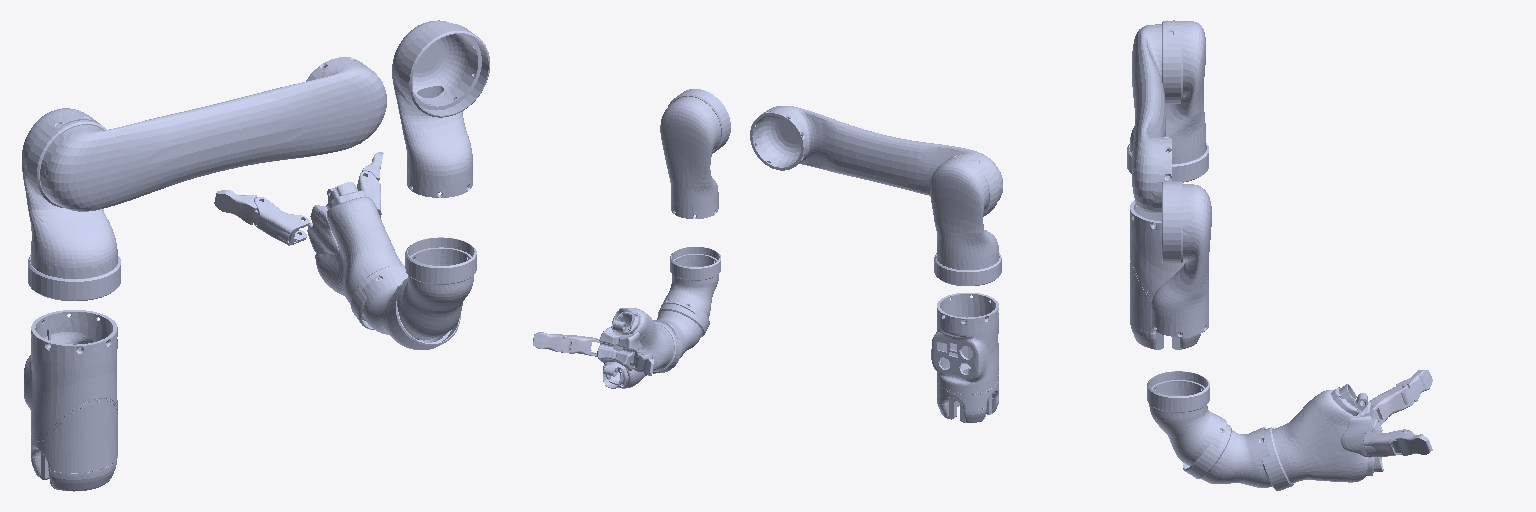
URDF robot description (mico):
<?xml version="1.0" ?>
<!-- =================================================================================== -->
<!-- |    This document was autogenerated by xacro from standalone_mico_arm.xacro      | -->
<!-- |    EDITING THIS FILE BY HAND IS NOT RECOMMENDED                                 | -->
<!-- =================================================================================== -->
<robot name="mico" xmlns:body="http://playerstage.sourceforge.net/gazebo/xmlschema/#body" xmlns:controller="http://playerstage.sourceforge.net/gazebo/xmlschema/#controller" xmlns:gazebo="http://playerstage.sourceforge.net/gazebo/xmlschema/#gz" xmlns:geom="http://playerstage.sourceforge.net/gazebo/xmlschema/#geom" xmlns:interface="http://playerstage.sourceforge.net/gazebo/xmlschema/#interface" xmlns:joint="http://playerstage.sourceforge.net/gazebo/xmlschema/#joint" xmlns:model="http://playerstage.sourceforge.net/gazebo/xmlschema/#model" xmlns:physics="http://playerstage.sourceforge.net/gazebo/xmlschema/#physics" xmlns:renderable="http://playerstage.sourceforge.net/gazebo/xmlschema/#renderable" xmlns:rendering="http://playerstage.sourceforge.net/gazebo/xmlschema/#rendering" xmlns:sensor="http://playerstage.sourceforge.net/gazebo/xmlschema/#sensor" xmlns:xacro="http://ros.org/wiki/xacro" xmlns:xi="http://www.w3.org/2001/XInclude">
  <link name="root">
    <visual>
      <origin rpy="0 0 0" xyz="0 0 0"/>
      <geometry>
        <box size="0 0 0"/>
        <!--making it slightly bigger in x and z direction-->
      </geometry>
      <!--<material name="Black" /> -->
    </visual>
    <collision>
      <origin rpy="0 0 0" xyz="0 0 0"/>
      <geometry>
        <box size="0 0 0"/>
        <!--making it slightly bigger in x and z direction-->
      </geometry>
    </collision>
  </link>
  <link name="mico_link_base">
    <visual>
      <geometry>
        <mesh filename="package://jaco_model/meshes/mico_link_base.dae"/>
      </geometry>
      <material name="carbon_fiber">
        <color rgba="0.792156862745098 0.819607843137255 0.933333333333333 1"/>
      </material>
    </visual>
    <collision>
      <geometry>
        <mesh filename="package://jaco_model/meshes/mico_link_base.dae"/>
      </geometry>
    </collision>
  </link>
  <joint name="mico_joint_base" type="fixed">
    <parent link="root"/>
    <child link="mico_link_base"/>
    <axis xyz="0 0 0"/>
    <origin rpy="0 0 0" xyz="0 0 0"/>
  </joint>
  <link name="mico_link_1">
    <visual>
      <geometry>
        <mesh filename="package://jaco_model/meshes/mico_link_1.dae"/>
      </geometry>
      <material name="carbon_fiber">
        <color rgba="0.792156862745098 0.819607843137255 0.933333333333333 1"/>
      </material>
    </visual>
    <collision>
      <geometry>
        <mesh filename="package://jaco_model/meshes/mico_link_1.dae"/>
      </geometry>
    </collision>
  </link>
  <joint name="mico_joint_1" type="revolute">
    <parent link="mico_link_base"/>
    <child link="mico_link_1"/>
    <axis xyz="0 0 -1"/>
    <origin rpy="3.14159265359 0 3.14159265359" xyz="0 0 0.1535"/>
    <limit effort="30" lower="-6.28318530718" upper="6.28318530718" velocity="5"/>
  </joint>
  <link name="mico_link_2">
    <visual>
      <geometry>
        <mesh filename="package://jaco_model/meshes/mico_link_2.dae"/>
      </geometry>
      <material name="carbon_fiber">
        <color rgba="0.792156862745098 0.819607843137255 0.933333333333333 1"/>
      </material>
    </visual>
    <collision>
      <geometry>
        <mesh filename="package://jaco_model/meshes/mico_link_2.dae"/>
      </geometry>
    </collision>
  </link>
  <joint name="mico_joint_2" type="revolute">
    <parent link="mico_link_1"/>
    <child link="mico_link_2"/>
    <axis xyz="0 0 1"/>
    <origin rpy="-1.57079632679 3.14159265359 0" xyz="0 0 -0.1185"/>
    <limit effort="30" lower="0" upper="6.28318530718" velocity="5"/>
  </joint>
  <link name="mico_link_3">
    <visual>
      <geometry>
        <mesh filename="package://jaco_model/meshes/mico_link_3.dae"/>
      </geometry>
      <material name="carbon_fiber">
        <color rgba="0.792156862745098 0.819607843137255 0.933333333333333 1"/>
      </material>
    </visual>
    <collision>
      <geometry>
        <mesh filename="package://jaco_model/meshes/mico_link_3.dae"/>
      </geometry>
    </collision>
  </link>
  <joint name="mico_joint_3" type="revolute">
    <parent link="mico_link_2"/>
    <child link="mico_link_3"/>
    <axis xyz="0 0 -1"/>
    <origin rpy="3.14159265359 0 1.57079632679" xyz="0.41 0 0"/>
    <limit effort="30" lower="0" upper="6.28318530718" velocity="5"/>
  </joint>
  <link name="mico_link_4">
    <visual>
      <geometry>
        <mesh filename="package://jaco_model/meshes/mico_link_4.dae"/>
      </geometry>
      <material name="carbon_fiber">
        <color rgba="0.792156862745098 0.819607843137255 0.933333333333333 1"/>
      </material>
    </visual>
    <collision>
      <geometry>
        <mesh filename="package://jaco_model/meshes/mico_link_4.dae"/>
      </geometry>
    </collision>
  </link>
  <joint name="mico_joint_4" type="revolute">
    <parent link="mico_link_3"/>
    <child link="mico_link_4"/>
    <axis xyz="0 0 -1"/>
    <origin rpy="3.14159265359 1.57079632679 0" xyz="0.207 0 -0.01125"/>
    <limit effort="30" lower="-6.28318530718" upper="6.28318530718" velocity="5"/>
  </joint>
  <link name="mico_link_5">
    <visual>
      <geometry>
        <mesh filename="package://jaco_model/meshes/mico_link_5.dae"/>
      </geometry>
      <material name="carbon_fiber">
        <color rgba="0.792156862745098 0.819607843137255 0.933333333333333 1"/>
      </material>
    </visual>
    <collision>
      <geometry>
        <mesh filename="package://jaco_model/meshes/mico_link_5.dae"/>
      </geometry>
    </collision>
  </link>
  <joint name="mico_joint_5" type="revolute">
    <parent link="mico_link_4"/>
    <child link="mico_link_5"/>
    <axis xyz="0 0 -1"/>
    <origin rpy="0 -0.959931088597 0" xyz="0.0343 0 -0.06588"/>
    <limit effort="30" lower="-6.28318530718" upper="6.28318530718" velocity="5"/>
  </joint>
  <link name="mico_link_hand">
    <visual>
      <geometry>
        <mesh filename="package://jaco_model/meshes/mico_link_hand.dae"/>
      </geometry>
      <material name="carbon_fiber">
        <color rgba="0.792156862745098 0.819607843137255 0.933333333333333 1"/>
      </material>
    </visual>
    <collision>
      <geometry>
        <mesh filename="package://jaco_model/meshes/mico_link_hand.dae"/>
      </geometry>
    </collision>
  </link>
  <joint name="mico_joint_6" type="revolute">
    <parent link="mico_link_5"/>
    <child link="mico_link_hand"/>
    <axis xyz="0 0 -1"/>
    <origin rpy="-0.959931088597 0 1.57079632679" xyz="0.0343 0 -0.06588"/>
    <limit effort="30" lower="-6.28318530718" upper="6.28318530718" velocity="5"/>
  </joint>
  <link name="mico_link_finger_1">
    <visual>
      <geometry>
        <mesh filename="package://jaco_model/meshes/mico_link_finger_1.dae"/>
      </geometry>
      <material name="carbon_fiber">
        <color rgba="0.792156862745098 0.819607843137255 0.933333333333333 1"/>
      </material>
    </visual>
    <collision>
      <geometry>
        <mesh filename="package://jaco_model/meshes/mico_link_finger_1.dae"/>
      </geometry>
    </collision>
  </link>
  <joint name="mico_joint_finger_1" type="revolute">
    <parent link="mico_link_hand"/>
    <child link="mico_link_finger_1"/>
    <axis xyz="0 0 1"/>
    <origin rpy="-1.5708 0 0" xyz="0.030948 0.013746 -0.11107 "/>
    <limit effort="30" lower="0" upper="0.698131700798" velocity="5"/>
  </joint>
  <link name="mico_link_finger_2">
    <visual>
      <geometry>
        <mesh filename="package://jaco_model/meshes/mico_link_finger_2.dae"/>
      </geometry>
      <material name="carbon_fiber">
        <color rgba="0.792156862745098 0.819607843137255 0.933333333333333 1"/>
      </material>
    </visual>
    <collision>
      <geometry>
        <mesh filename="package://jaco_model/meshes/mico_link_finger_2.dae"/>
      </geometry>
    </collision>
  </link>
  <joint name="mico_joint_finger_2" type="revolute">
    <parent link="mico_link_hand"/>
    <child link="mico_link_finger_2"/>
    <axis xyz="0 0 1"/>
    <origin rpy="1.5708 0 0" xyz="-0.030948 0.013746 -0.11107 "/>
    <limit effort="30" lower="0" upper="0.698131700798" velocity="5"/>
  </joint>
  <link name="mico_link_finger_1_distal">
    <visual>
      <geometry>
        <mesh filename="package://jaco_model/meshes/mico_link_finger_1_distal.dae"/>
      </geometry>
      <material name="carbon_fiber">
        <color rgba="0.792156862745098 0.819607843137255 0.933333333333333 1"/>
      </material>
    </visual>
    <collision>
      <geometry>
        <mesh filename="package://jaco_model/meshes/mico_link_finger_1_distal.dae"/>
      </geometry>
    </collision>
  </link>
  <joint name="mico_joint_finger_1_distal" type="revolute">
    <parent link="mico_link_finger_1"/>
    <child link="mico_link_finger_1_distal"/>
    <axis xyz="0 0 1"/>
    <origin rpy="0 0 0" xyz="0.026055 0.035582 0"/>
    <limit effort="30" lower="0" upper="0.698131700798" velocity="5"/>
  </joint>
  <link name="mico_link_finger_2_distal">
    <visual>
      <geometry>
        <mesh filename="package://jaco_model/meshes/mico_link_finger_2_distal.dae"/>
      </geometry>
      <material name="carbon_fiber">
        <color rgba="0.792156862745098 0.819607843137255 0.933333333333333 1"/>
      </material>
    </visual>
    <collision>
      <geometry>
        <mesh filename="package://jaco_model/meshes/mico_link_finger_2_distal.dae"/>
      </geometry>
    </collision>
  </link>
  <joint name="mico_joint_finger_2_distal" type="revolute">
    <parent link="mico_link_finger_2"/>
    <child link="mico_link_finger_2_distal"/>
    <axis xyz="0 0 1"/>
    <origin rpy="0 0 0" xyz="-0.026055 -0.035582 0"/>
    <limit effort="30" lower="0" upper="0.698131700798" velocity="5"/>
  </joint>
</robot>

--- Facts derived from the render (not from the file) ---
3 views of the same robot in one strip: view 1: azimuth 30°, elevation 25°; view 2: azimuth 150°, elevation 25°; view 3: azimuth 270°, elevation 25° (orthographic).
Robot: mico — 12 links, 11 joints (10 revolute, 1 fixed); root link root; default pose: every joint at zero.
Links seen in each view (by area): view 1: mico_link_2, mico_link_base, mico_link_3, mico_link_1, mico_link_hand, mico_link_4, mico_link_5, mico_link_finger_1, mico_link_finger_1_distal, mico_link_finger_2; view 2: mico_link_2, mico_link_base, mico_link_1, mico_link_3, mico_link_hand, mico_link_4, mico_link_5, mico_link_finger_2_distal; view 3: mico_link_hand, mico_link_3, mico_link_2, mico_link_1, mico_link_4, mico_link_base, mico_link_5, mico_link_finger_1, mico_link_finger_2, mico_link_finger_2_distal, mico_link_finger_1_distal.
Boxes of the visible links, x1,y1,x2,y2 form: mico_link_2: (27,57,386,211); mico_link_base: (24,310,117,491); mico_link_3: (392,20,489,197); mico_link_1: (22,108,120,300); mico_link_hand: (307,182,404,329); mico_link_4: (392,237,476,340); mico_link_5: (362,268,460,349); mico_link_finger_1: (254,197,309,245); mico_link_finger_1_distal: (214,190,261,224); mico_link_finger_2: (358,171,381,217); mico_link_2: (750,106,1002,216); mico_link_base: (931,293,998,422); mico_link_1: (930,154,1001,285); mico_link_3: (660,89,730,218); mico_link_hand: (597,308,681,388); mico_link_4: (661,247,720,317); mico_link_5: (653,304,709,357); mico_link_finger_2_distal: (533,332,570,351); mico_link_hand: (1261,384,1383,490); mico_link_3: (1151,181,1211,336); mico_link_2: (1132,21,1182,212); mico_link_1: (1127,20,1208,182); mico_link_4: (1147,371,1226,465); mico_link_base: (1130,200,1200,349); mico_link_5: (1183,424,1271,487); mico_link_finger_1: (1369,384,1413,425); mico_link_finger_2: (1363,429,1407,457); mico_link_finger_2_distal: (1391,430,1432,455); mico_link_finger_1_distal: (1396,370,1432,404).
Size in the robot's own frame: 0.5459 by 0.332 by 0.376 metres.
Meshes: 11 distinct files referenced, 11 mesh visuals loaded (11 Collada DAE).
